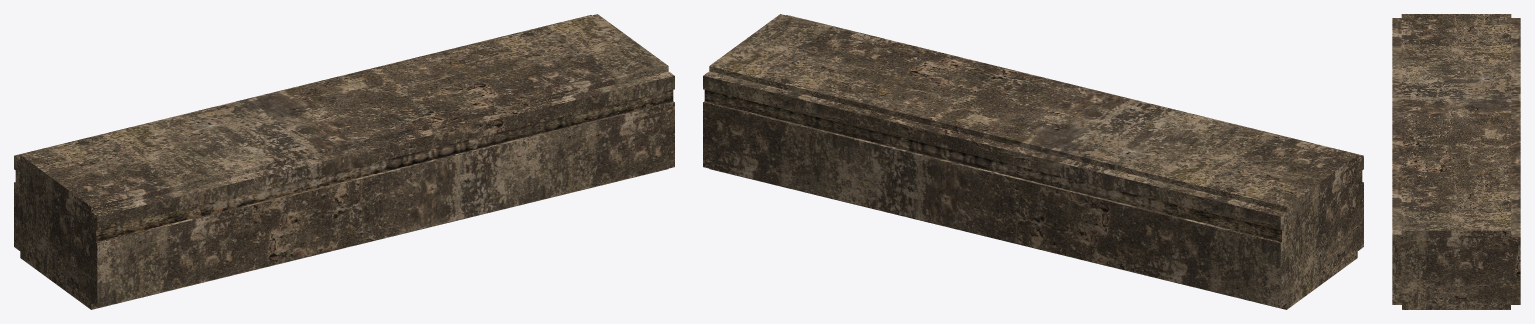
File: materials_5_stonestick_short_1.fbx
3 renders of one model, left to right at view 1: azimuth 30°, elevation 25°; view 2: azimuth 150°, elevation 25°; view 3: azimuth 270°, elevation 25°, orthographic. The views are drawn at different scales.
Visible parts, largest first — view 1: materials_5_stonestick_short_1; view 2: materials_5_stonestick_short_1; view 3: materials_5_stonestick_short_1.
Part boxes in pixels (left/top/right/bottom): materials_5_stonestick_short_1: left=14, top=14, right=674, bottom=309; materials_5_stonestick_short_1: left=703, top=14, right=1363, bottom=309; materials_5_stonestick_short_1: left=1392, top=14, right=1520, bottom=309.
Size of the model in its own units: 114 by 19.48 by 28.54.
